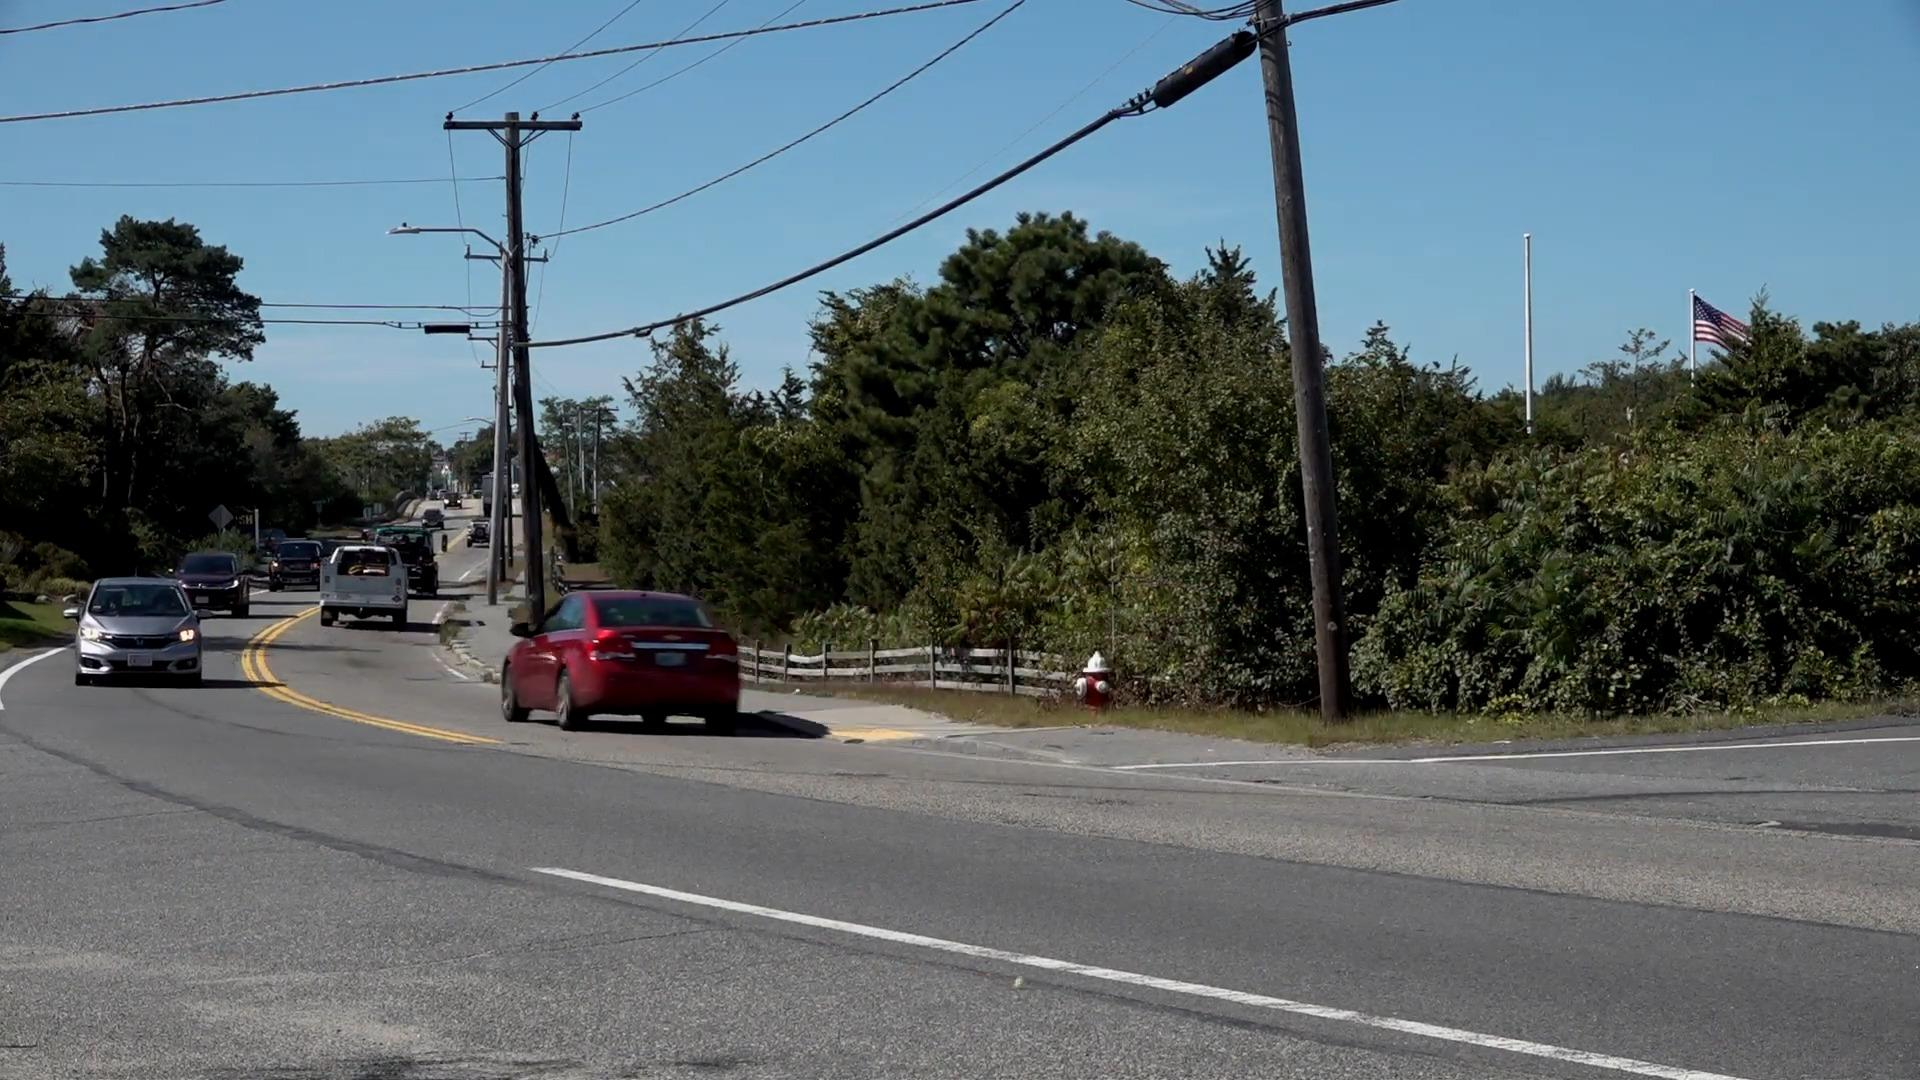sedans: (501, 588, 738, 728), (71, 572, 212, 692)
suv: (179, 550, 260, 621)
